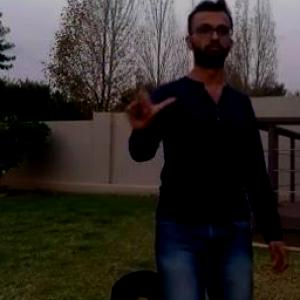land_hand: (120, 66, 174, 134)
